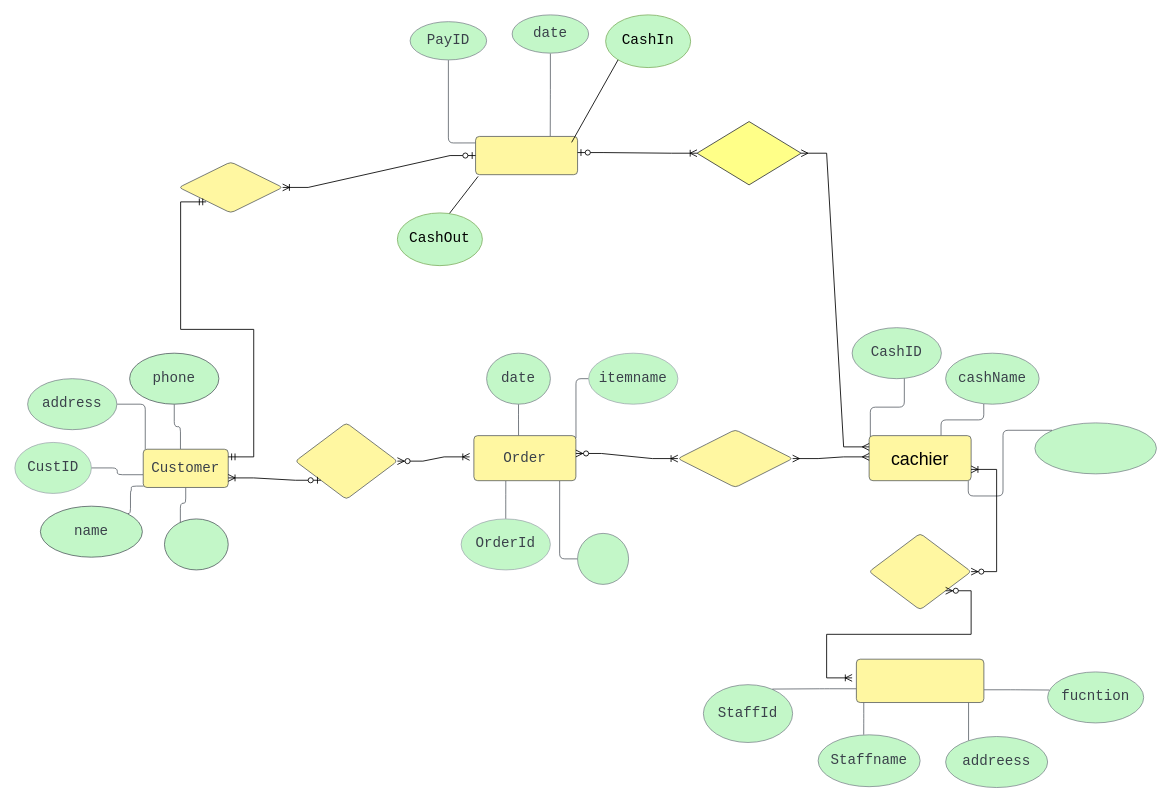
This 1171x802 diagram has some shape labels left out. Here are the shapes that lost their labels. From the top down, the box of each, then its label:
(475, 136, 577, 175): Bill
(696, 121, 801, 185): GetPaid
(178, 161, 283, 213): Pay to
(295, 422, 397, 499): make
(677, 429, 793, 487): Take by
(1034, 422, 1156, 474): aceptOrder
(164, 518, 228, 570): city
(577, 533, 628, 584): qty
(868, 533, 971, 610): Tell
(856, 658, 984, 702): Staff
